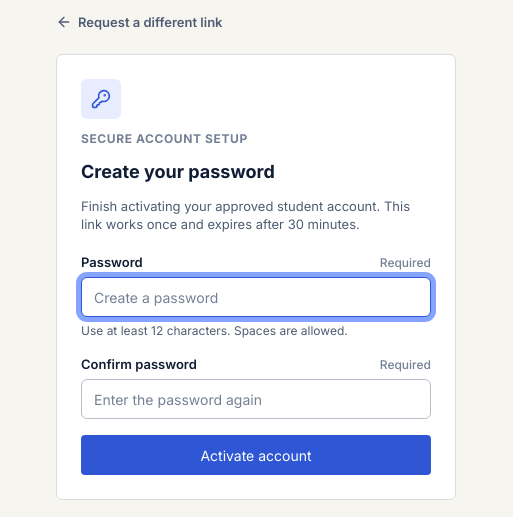
Test case: student activation password setup › starts the normal session after successful activation
The width and height of the screenshot is (513, 517).
Type "long secure password" into the password field labelled "Password".
click(256, 297); type("long secure password")  # box [81,277,431,317]
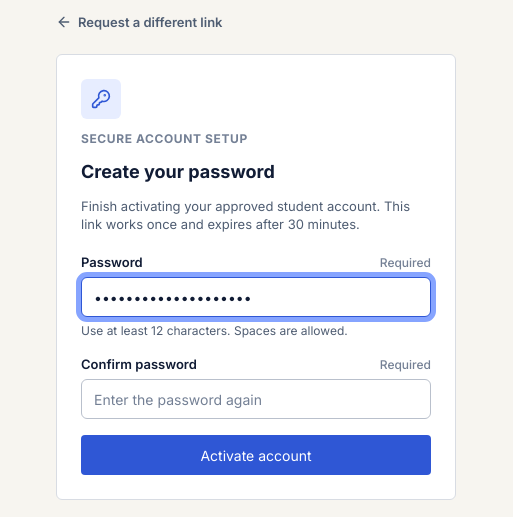
Type "long secure password" into the password field labelled "Confirm password".
click(256, 399); type("long secure password")  # box [81,379,431,419]
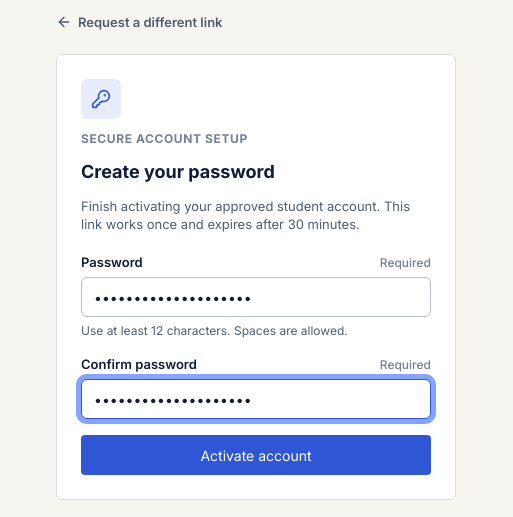
Click the button "Activate account".
click(256, 455)  # box [81,435,431,475]
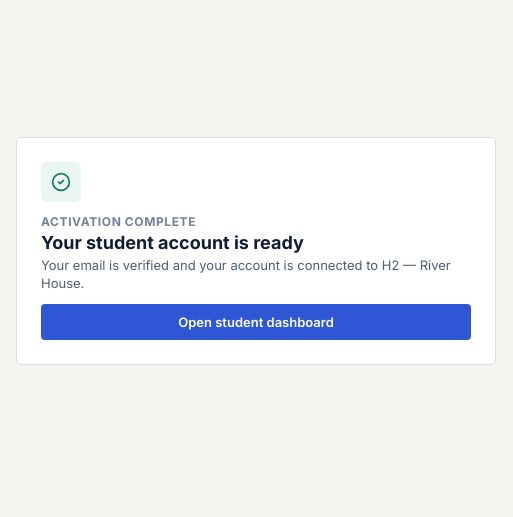
expect the heading "Your student account is ready" is shown: met, box [41,232,304,253]
